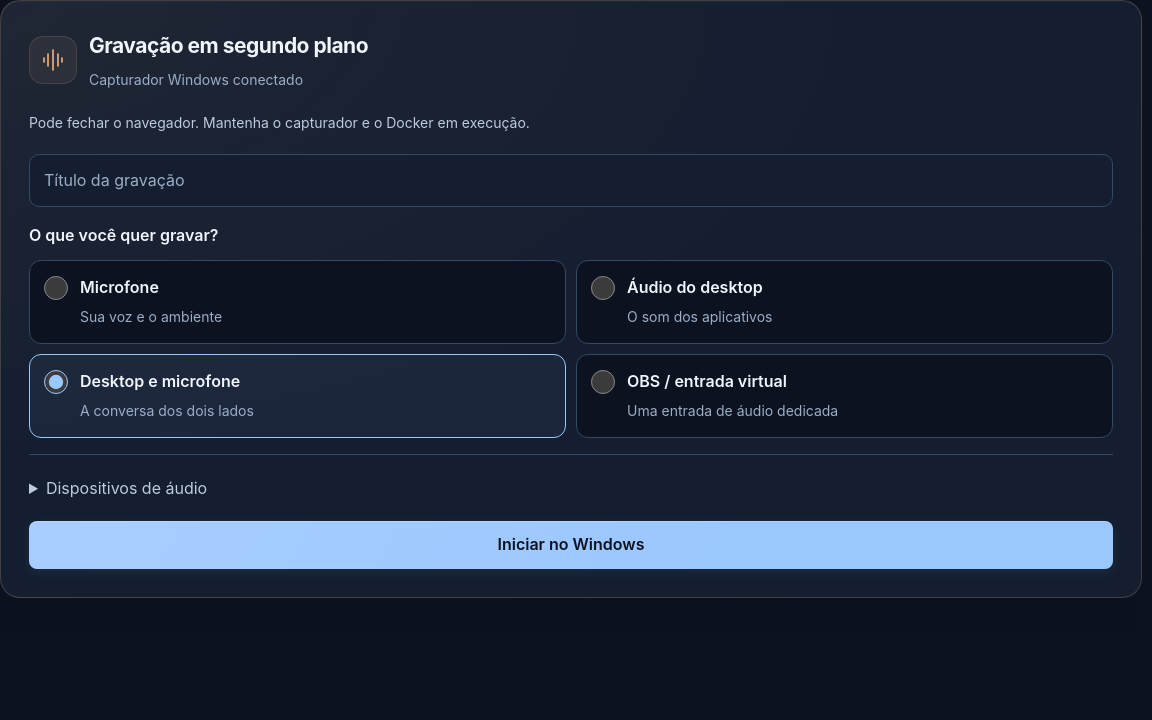
Test: retains a failed operation message and does not pretend recording started
The width and height of the screenshot is (1152, 720).
Expected: the button "Iniciar no Windows" is enabled, [29, 521, 1113, 569]
Step 1. Click the radio button labelled "Áudio do desktop O som dos aplicativos" → (603, 288), box [591, 276, 615, 300]
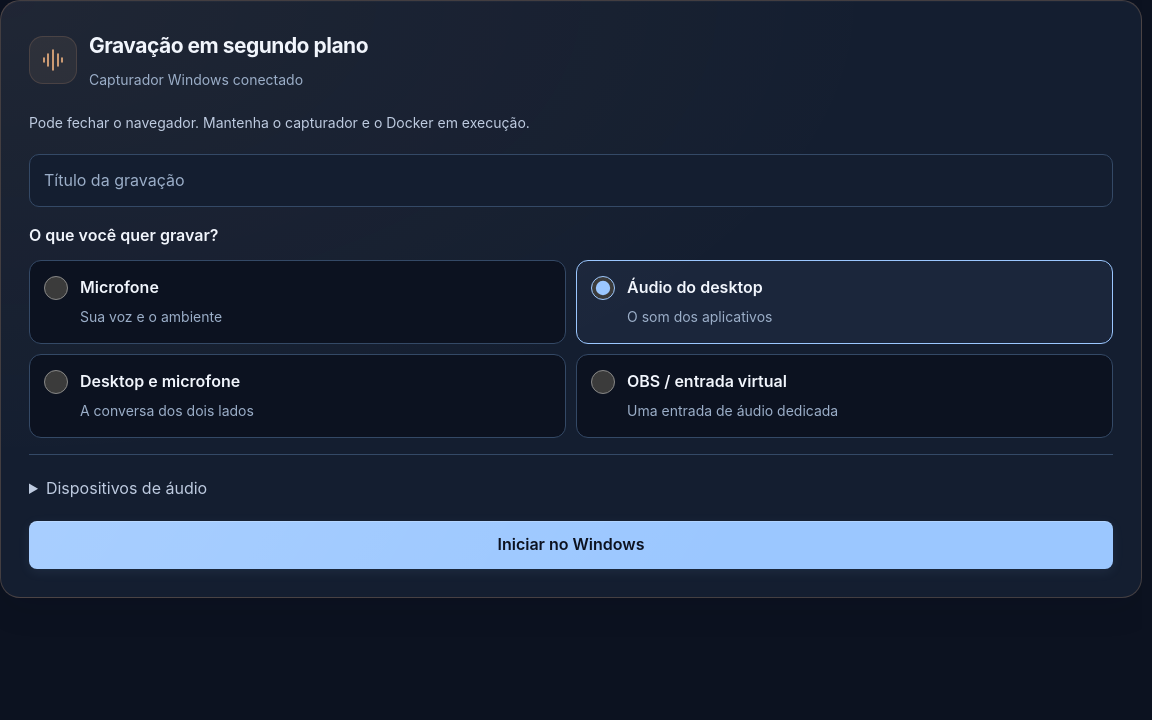
Step 2. Click the button "Iniciar no Windows" → (571, 545), box [29, 521, 1113, 569]
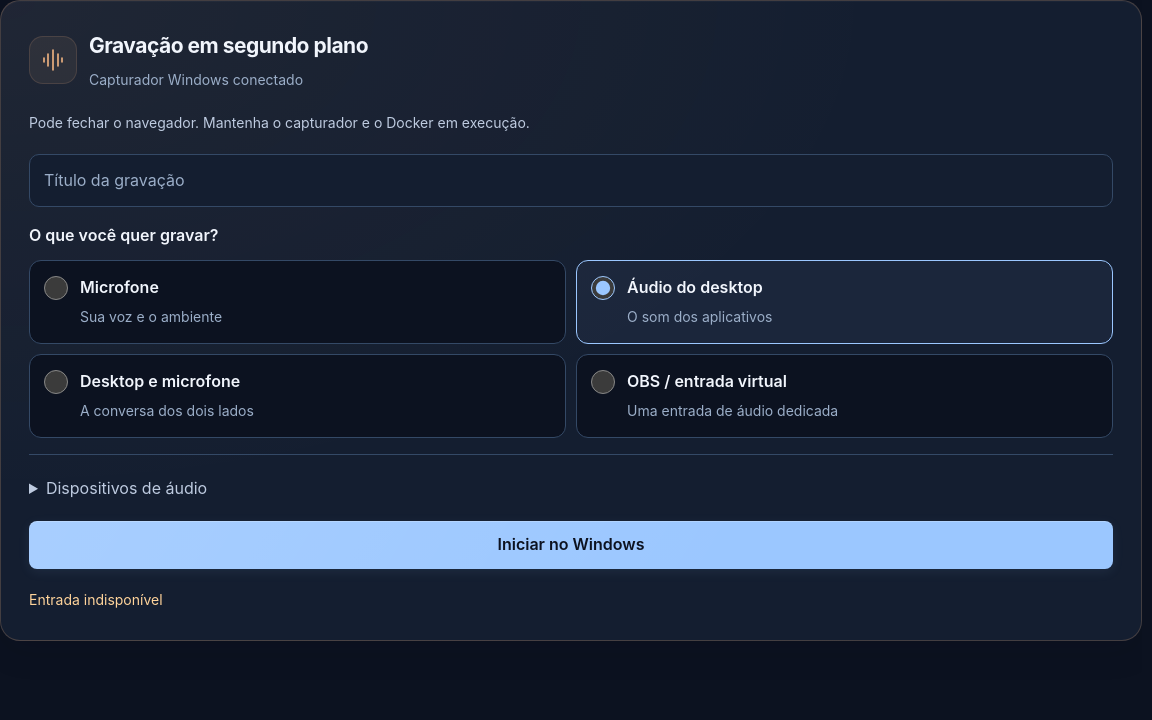
Expected: the message reads "Entrada indisponível", [29, 591, 163, 608]
